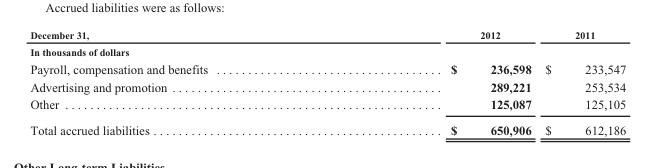table: (29, 28, 625, 136)
table column: (29, 28, 328, 136), (328, 28, 537, 136), (537, 28, 625, 136)
table column header: (29, 28, 625, 43)
table projected row header: (29, 43, 625, 59)
table row: (29, 95, 625, 116), (29, 116, 625, 136), (29, 59, 625, 77), (29, 77, 625, 95), (29, 43, 625, 59), (29, 28, 625, 43)
